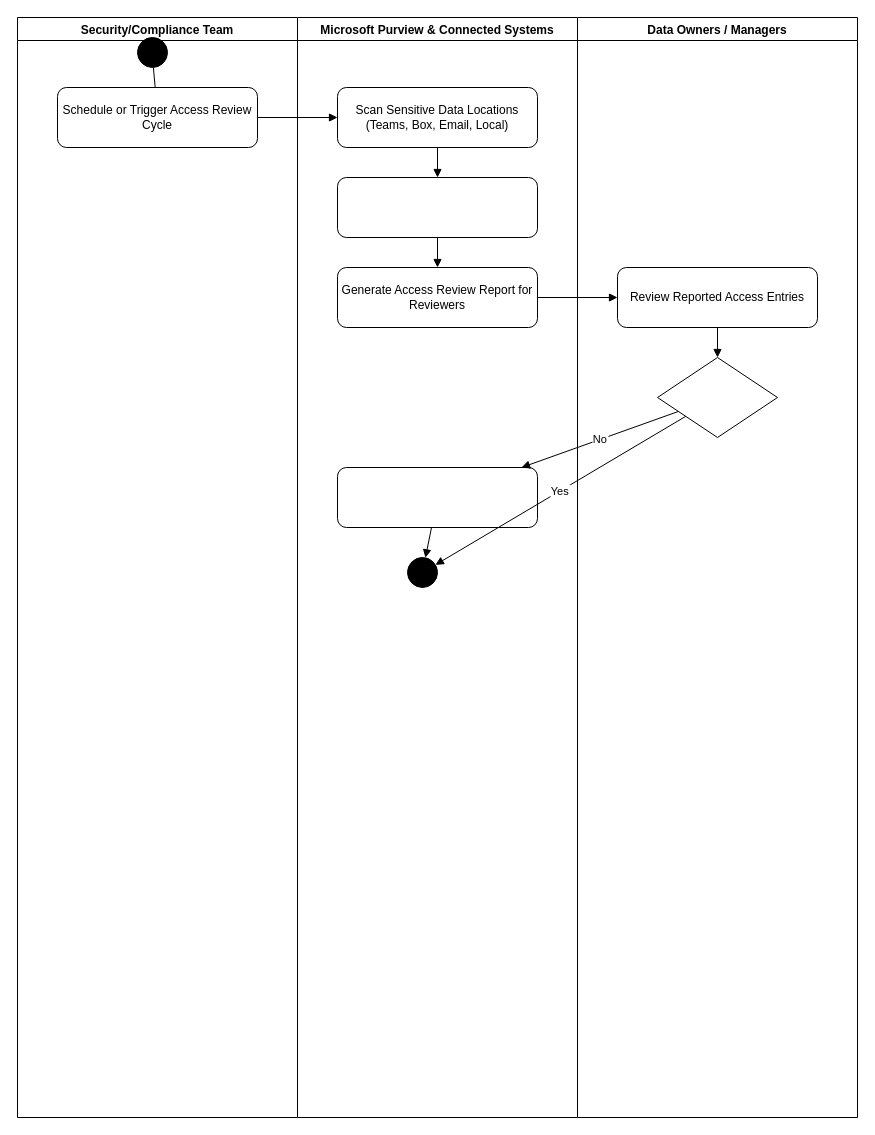
The diagram is 875 pixels wide and 1135 high, and some of its shapes have lost their labels. The centre of each missing label's shape, as x and y in pixels:
Enumerate Users/Groups with Access to Sensitive Files: the point at 437,207
Is Access Justified by Business Need?: the point at 717,397
Revoke or Modify Access Permissions: the point at 437,497
